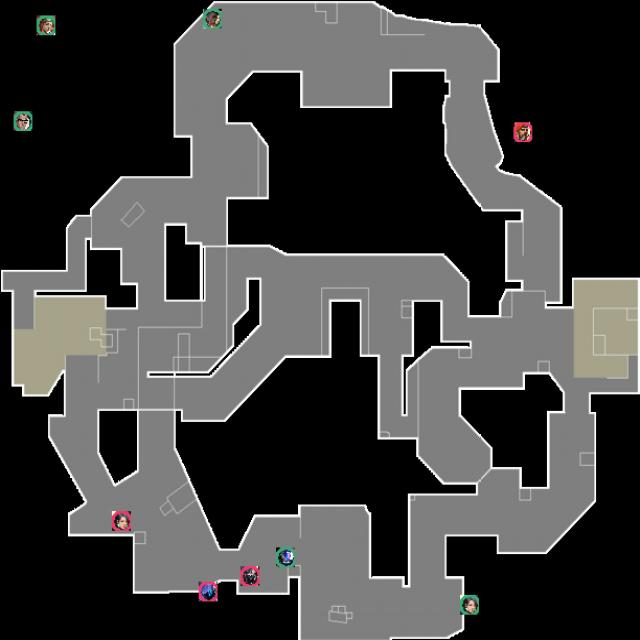atk_brimstone: (514, 122, 532, 142)
atk_omen: (198, 582, 218, 602)
atk_sage: (112, 511, 131, 531)
atk_viper: (240, 566, 260, 586)
def_chamber: (13, 111, 32, 131)
def_kayo: (276, 548, 295, 568)
def_phoenix: (203, 8, 222, 28)
def_sage: (460, 595, 479, 615)
def_skye: (36, 15, 56, 36)
